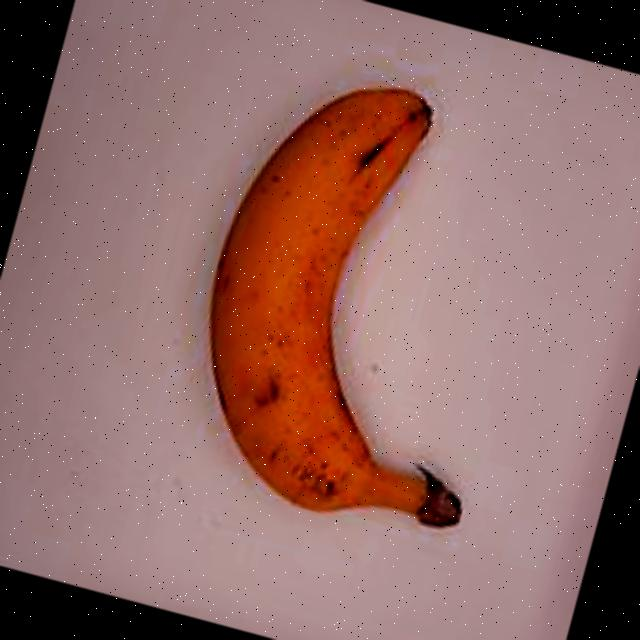Overripe: (135, 22, 576, 576)
